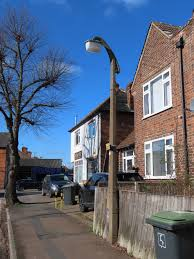light_pole: (105, 53, 126, 245)
